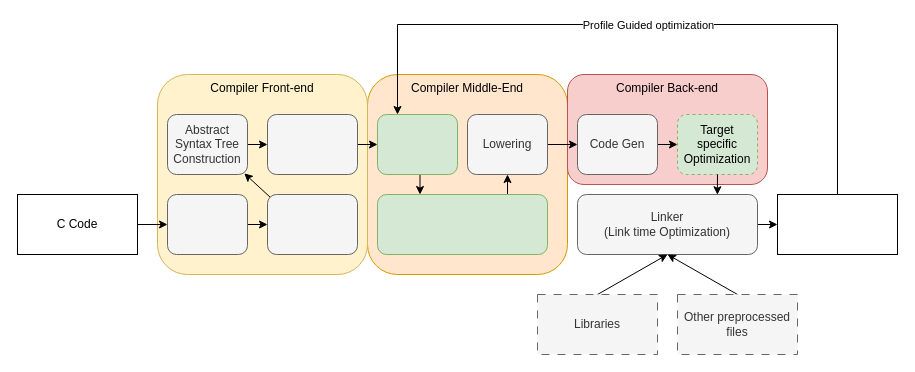
The diagram is 915 pixels wide and 372 high, and some of its shapes have lost their labels. Each missing label, with the centre of its shape:
"Analysis" belongs at pixel 417 144.
"Binary" belongs at pixel 837 224.
"Optimization passes" belongs at pixel 462 224.
"Parser Lexer" belongs at pixel 312 224.
"Preprocessor" belongs at pixel 207 224.
"Semantic Analysis IR Generation" belongs at pixel 312 144.
